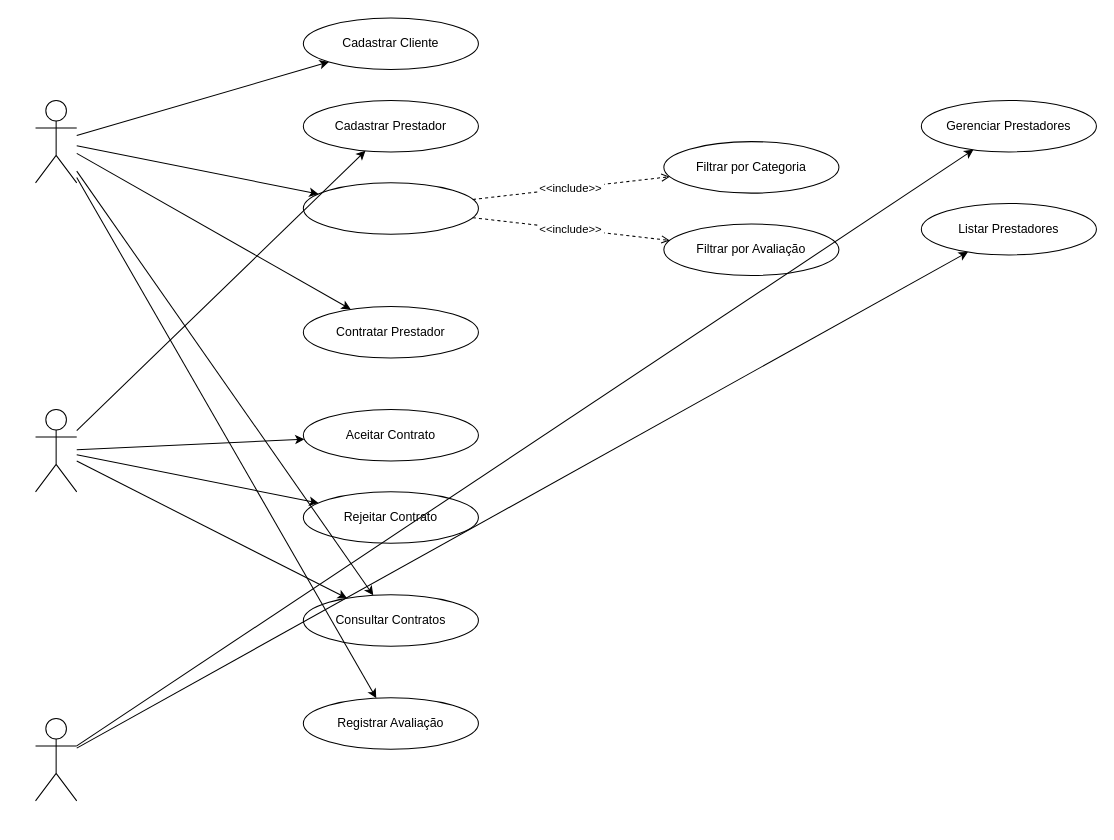
Image size: 1114x840. Some labels were removed from this diagram. Each missing label, with the centre of its shape:
"Administrador" goes at point 56,759.
"Cliente" goes at point 56,141.
"Pesquisar Prestadores" goes at point 390,208.
"Prestador" goes at point 56,450.
